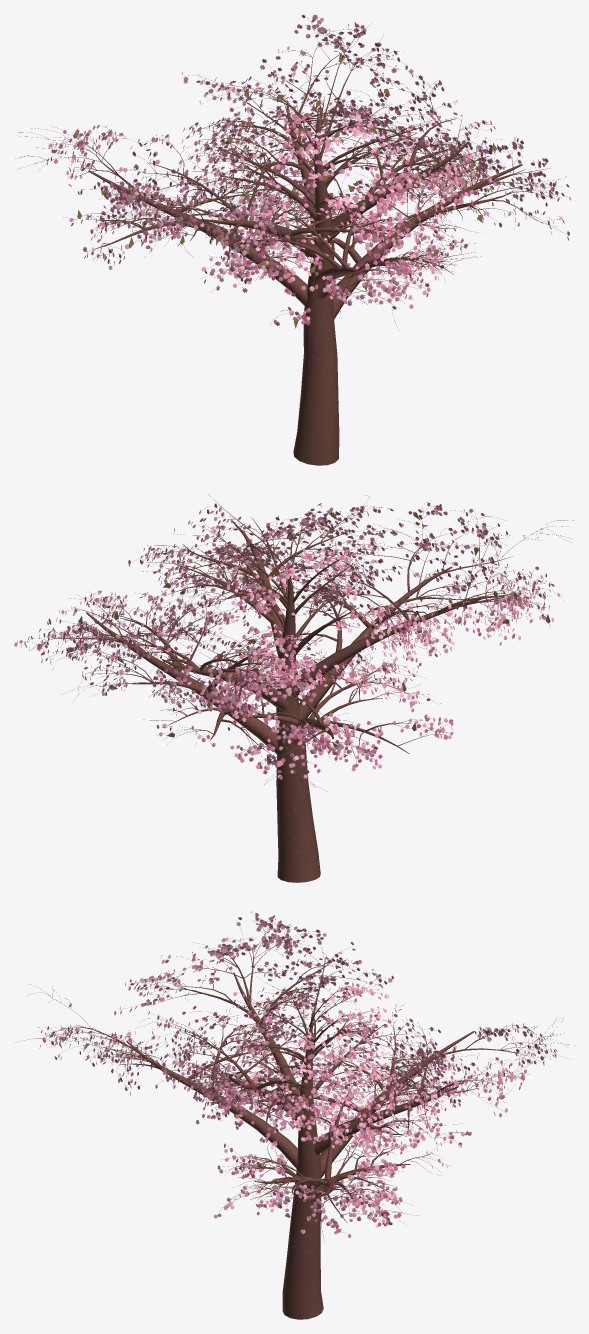
The model's file is kanzan_05.glb.
3 views of the same model, one above another, from view 1: azimuth 30°, elevation 25°; view 2: azimuth 150°, elevation 25°; view 3: azimuth 270°, elevation 25° (orthographic). The views are drawn at different scales.
Parts seen in each view (by area): view 1: Kanzan Bark | warm reddish brown, Kanzan Petals | pale pink, Kanzan Petals | blush, Kanzan Petals | warm pink, Kanzan Young leaves | bronze green; view 2: Kanzan Bark | warm reddish brown, Kanzan Petals | pale pink, Kanzan Petals | blush, Kanzan Petals | warm pink, Kanzan Young leaves | bronze green; view 3: Kanzan Bark | warm reddish brown, Kanzan Petals | pale pink, Kanzan Petals | blush, Kanzan Petals | warm pink, Kanzan Young leaves | bronze green.
Part boxes in pixels (x1,y1,x2,y2): Kanzan Bark | warm reddish brown: (15, 18, 566, 465); Kanzan Petals | pale pink: (47, 17, 569, 325); Kanzan Petals | blush: (47, 14, 570, 324); Kanzan Petals | warm pink: (51, 15, 564, 325); Kanzan Young leaves | bronze green: (48, 24, 566, 310); Kanzan Bark | warm reddish brown: (27, 494, 573, 882); Kanzan Petals | pale pink: (24, 503, 553, 778); Kanzan Petals | blush: (14, 502, 559, 779); Kanzan Petals | warm pink: (17, 504, 546, 774); Kanzan Young leaves | bronze green: (38, 505, 547, 772); Kanzan Bark | warm reddish brown: (14, 915, 574, 1319); Kanzan Petals | pale pink: (43, 913, 556, 1234); Kanzan Petals | blush: (39, 915, 557, 1233); Kanzan Petals | warm pink: (43, 915, 555, 1237); Kanzan Young leaves | bronze green: (58, 911, 543, 1218).
Bounding box in the file's own units: 8.36 × 6.52 × 9.23.
